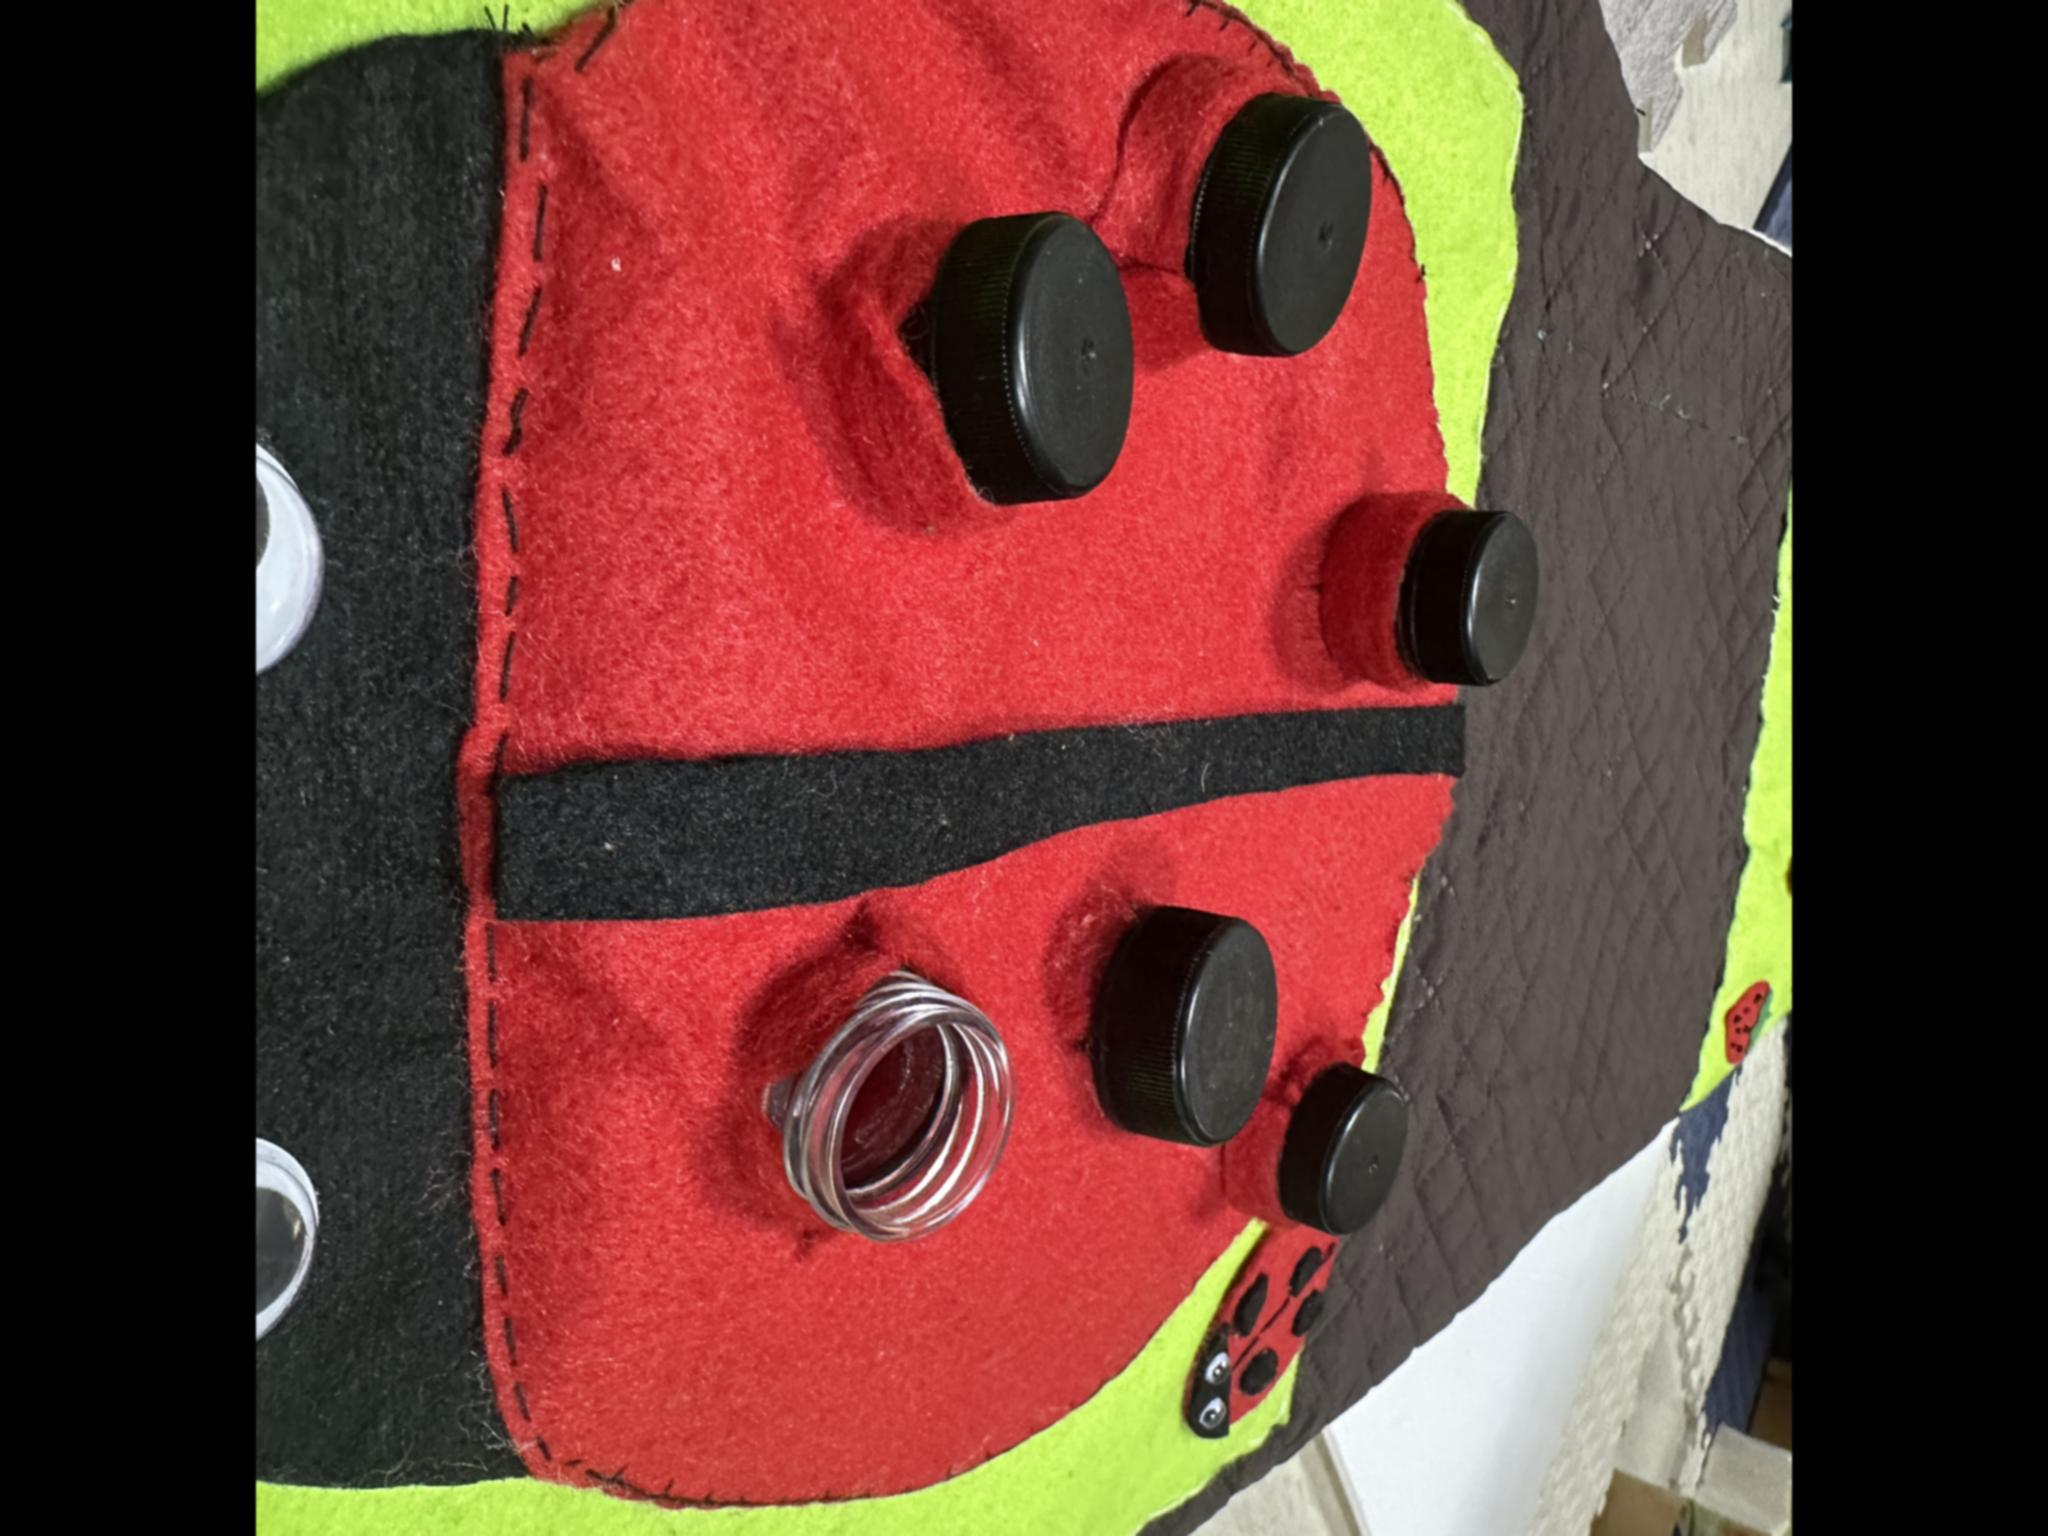cap_ok: (810, 194, 1159, 520), (1090, 32, 1427, 369), (1027, 874, 1290, 1152), (1290, 460, 1558, 705), (1214, 1028, 1417, 1249)
